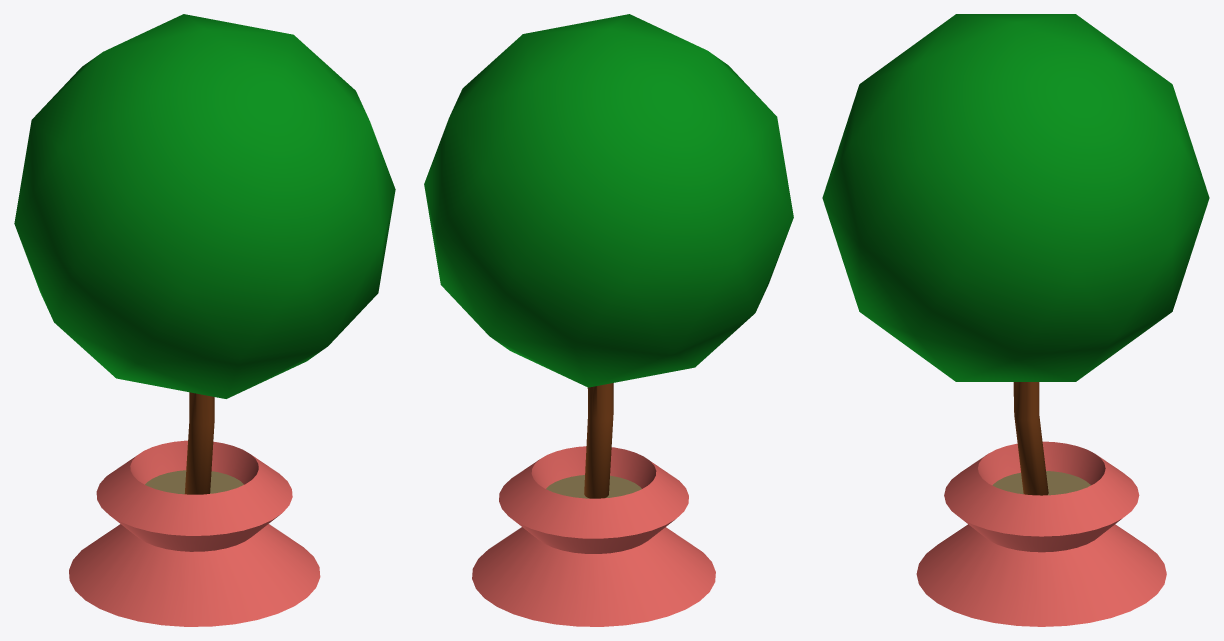
File: Plant.2.fbx
3 renders of one model, left to right at view 1: azimuth 30°, elevation 25°; view 2: azimuth 150°, elevation 25°; view 3: azimuth 270°, elevation 25°, orthographic. The views are drawn at different scales.
Parts seen in each view (by area): view 1: folhas, VPlanta, Tronco, Círculo; view 2: folhas, VPlanta, Tronco, Círculo; view 3: folhas, VPlanta, Tronco, Círculo.
Part boxes in pixels (x1=…): folhas: x1=14, y1=14, x2=395, y2=398; VPlanta: x1=69, y1=440, x2=320, y2=626; Tronco: x1=184, y1=392, x2=214, y2=494; Círculo: x1=145, y1=470, x2=243, y2=494; folhas: x1=424, y1=14, x2=793, y2=387; VPlanta: x1=472, y1=446, x2=715, y2=626; Tronco: x1=584, y1=383, x2=613, y2=498; Círculo: x1=546, y1=475, x2=641, y2=498; folhas: x1=822, y1=14, x2=1209, y2=381; VPlanta: x1=916, y1=441, x2=1166, y2=626; Tronco: x1=1013, y1=382, x2=1048, y2=495; Círculo: x1=992, y1=471, x2=1090, y2=495.
Bounding box in the file's own units: 189 × 311 × 198.
